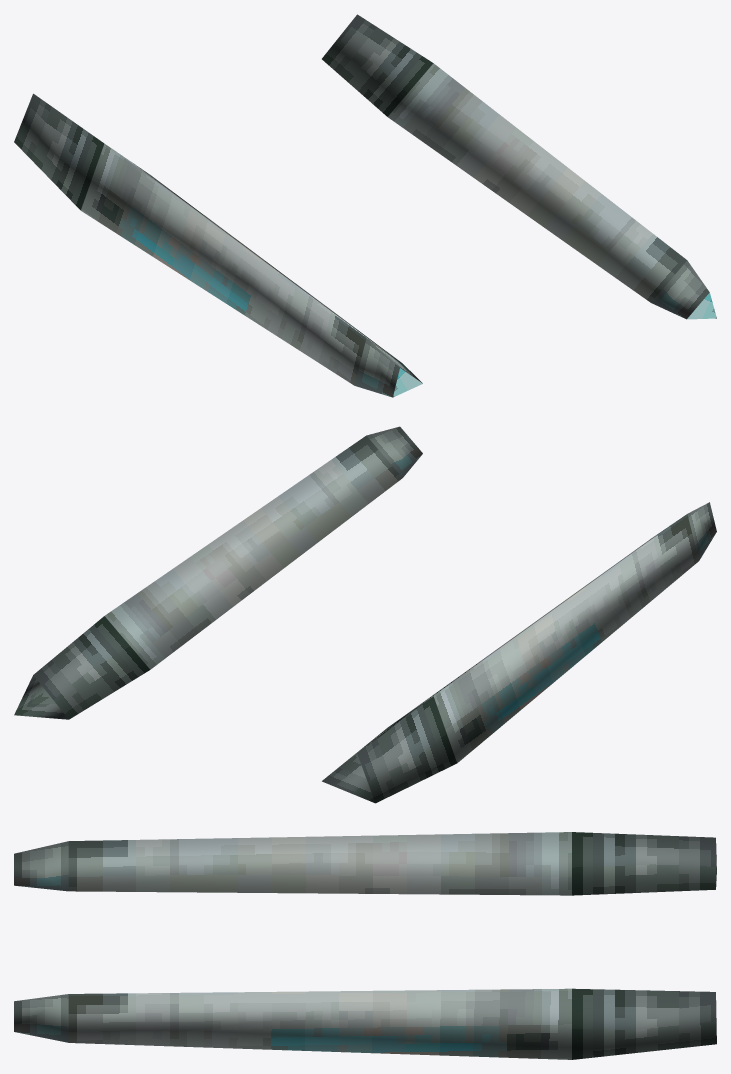
File: bwing_weapon1_s02_l3.fbx
3 renders of one model, top to bottom at view 1: azimuth 30°, elevation 25°; view 2: azimuth 150°, elevation 25°; view 3: azimuth 270°, elevation 25°, orthographic. The views are drawn at different scales.
Parts seen in each view (by area): view 1: mesh_node; view 2: mesh_node; view 3: mesh_node.
Boxes of the visible parts, left/top/right/bottom form: mesh_node: left=14, top=14, right=716, bottom=397; mesh_node: left=14, top=426, right=716, bottom=803; mesh_node: left=14, top=832, right=716, bottom=1059.
Bounding box in the file's own units: 1 × 0.1561 × 1.66.
1 material, 1 textured.
